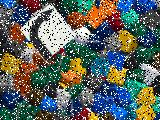Right: (20, 3, 76, 61)
